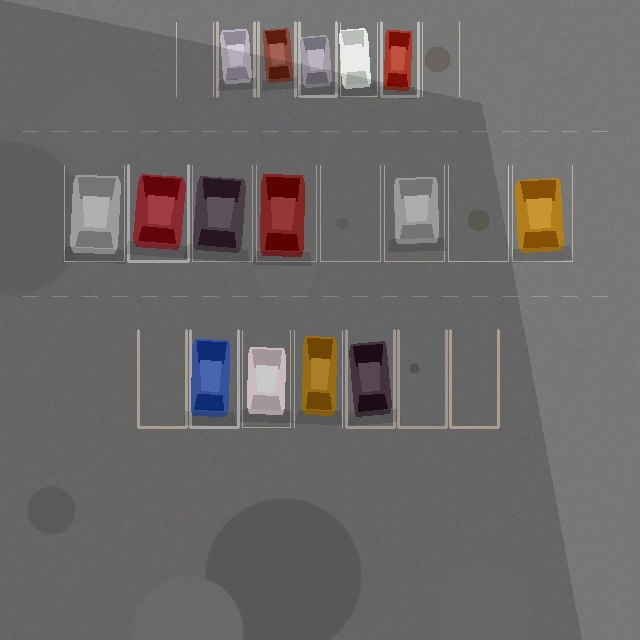space-empty: (320, 165, 380, 261), (448, 165, 508, 261), (138, 330, 186, 427), (398, 330, 446, 427), (450, 330, 498, 427), (176, 22, 213, 96), (422, 22, 459, 96)
space-occupied: (64, 165, 124, 261), (128, 165, 188, 261), (192, 165, 252, 261), (256, 165, 316, 261), (384, 165, 444, 261), (512, 165, 572, 261), (190, 330, 238, 427), (242, 330, 290, 427), (294, 330, 342, 427), (346, 330, 394, 427), (217, 22, 254, 96), (258, 22, 295, 96), (299, 22, 336, 96), (340, 22, 377, 96), (381, 22, 418, 96)
